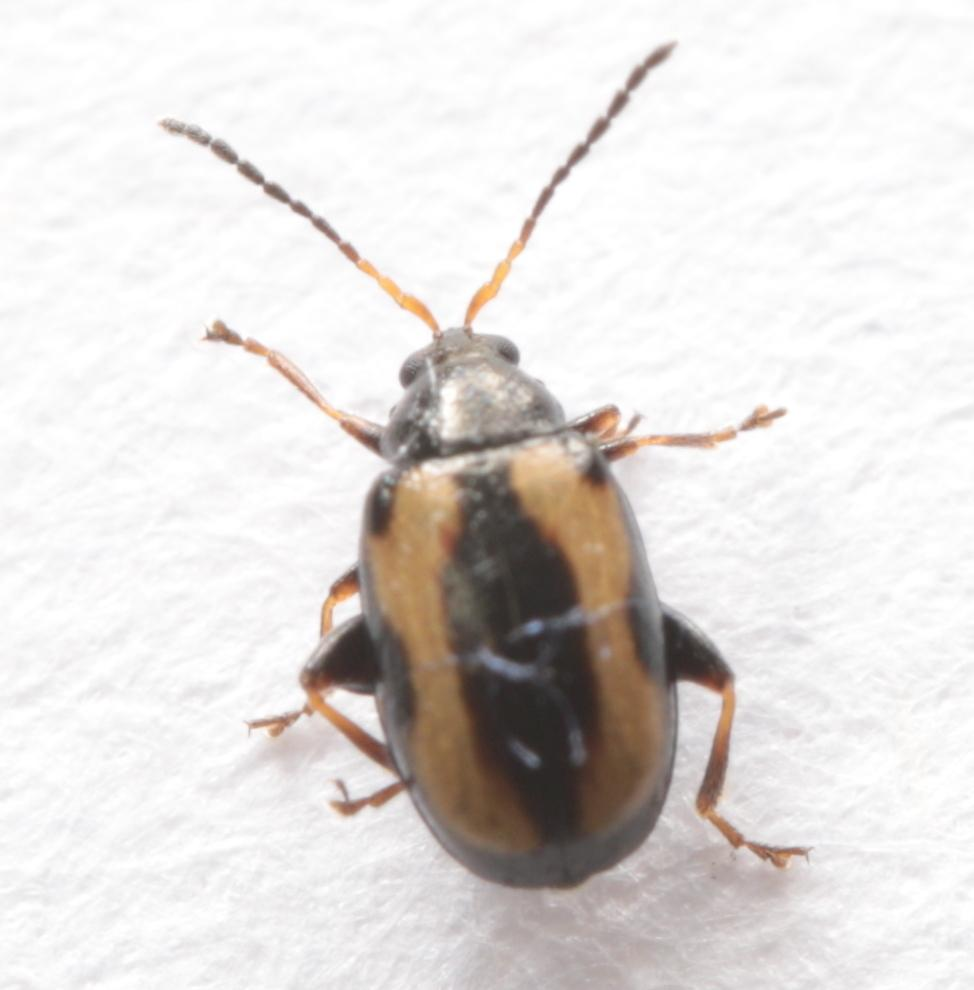flea_beetle: (74, 0, 929, 988)
